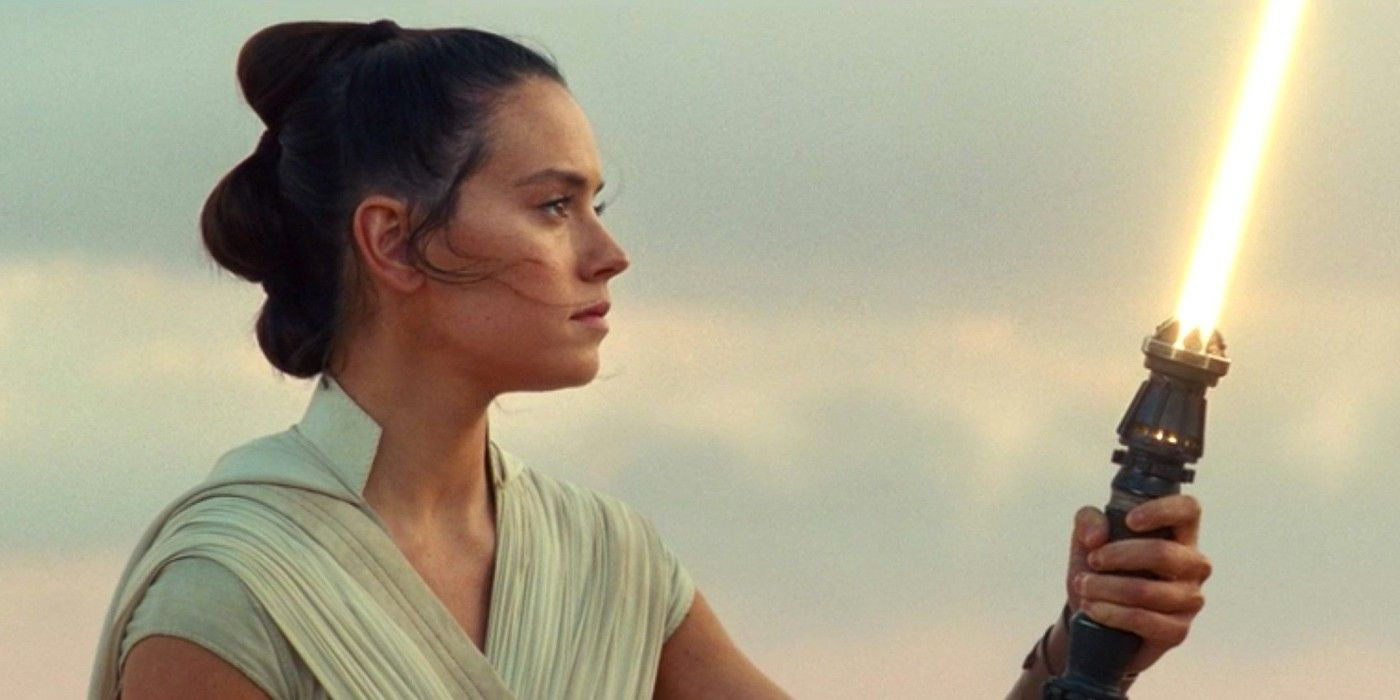lightsaber: (1047, 0, 1241, 623)
